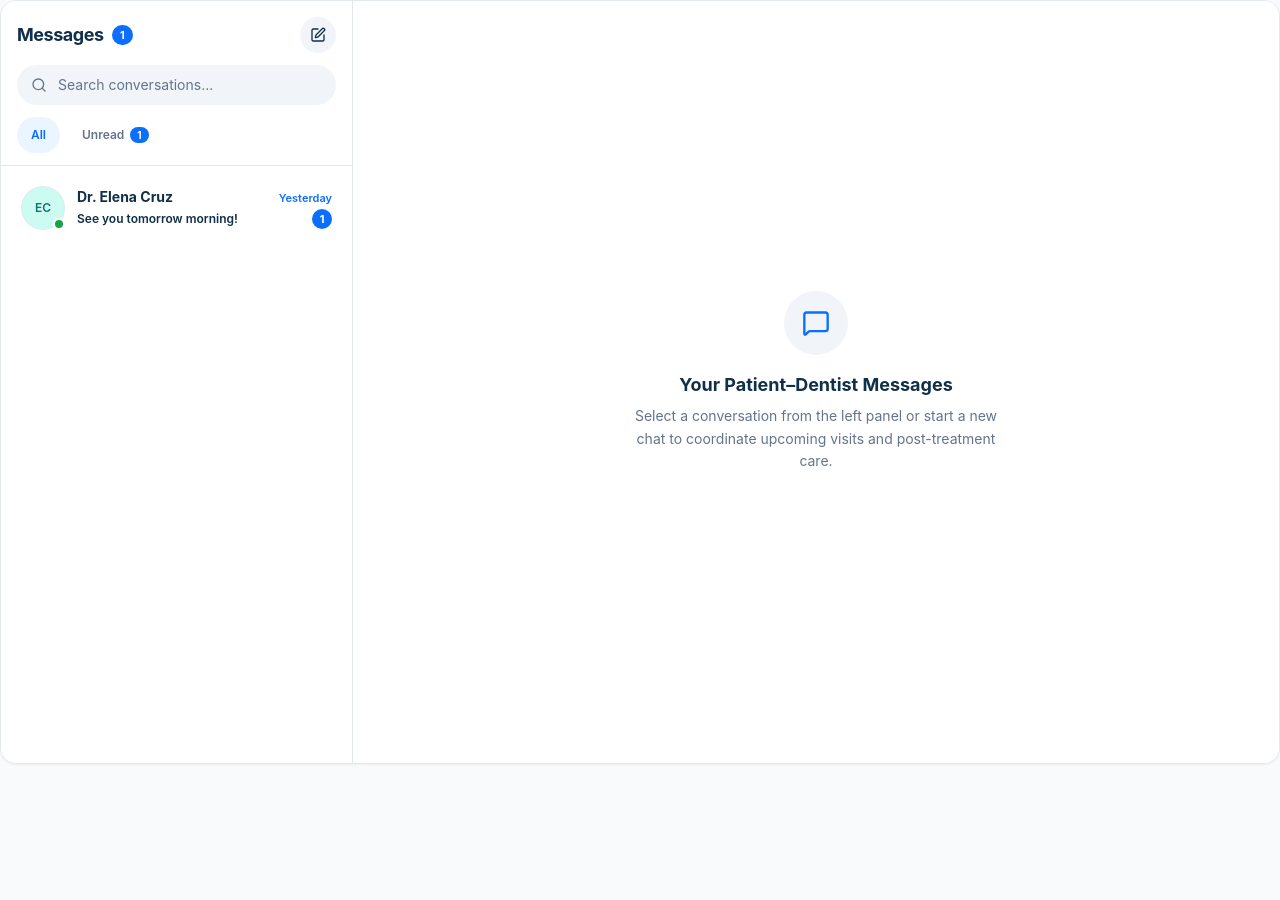
Test: Messenger-Style Patient-Dentist Chat (MessagesPage) › renders conversation sidebar, opens a thread with appointment context and read receipts, and loads older messages
Expected: the text with test id "sidebar-total-unread" reads "1", x1=120 y1=28 x2=125 y2=42
Click the button with test id "conversation-item-1". click: (176, 208)
box: x1=9 y1=174 x2=344 y2=242
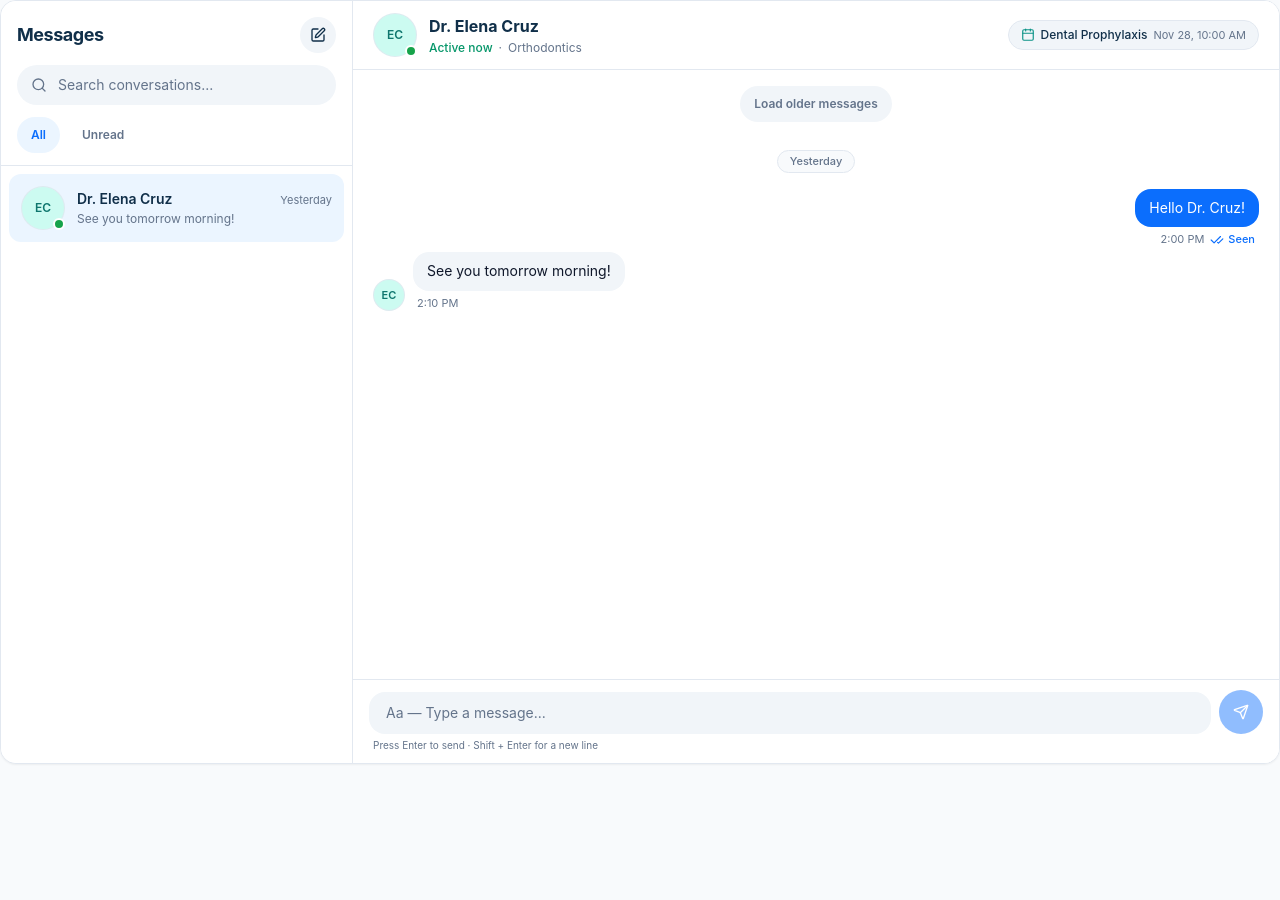
Result: the button "Hello Dr. Cruz!" is shown at x1=1135 y1=188 x2=1259 y2=227
Result: the element with test id "conversation-appointment-ref" shows "Dental Prophylaxis" at x1=1041 y1=27 x2=1148 y2=42
Result: the element with test id "message-read-receipt" reads "Seen" at x1=1228 y1=232 x2=1255 y2=246
Click the button "Load older messages". click: (816, 104)
box: x1=740 y1=86 x2=892 y2=122
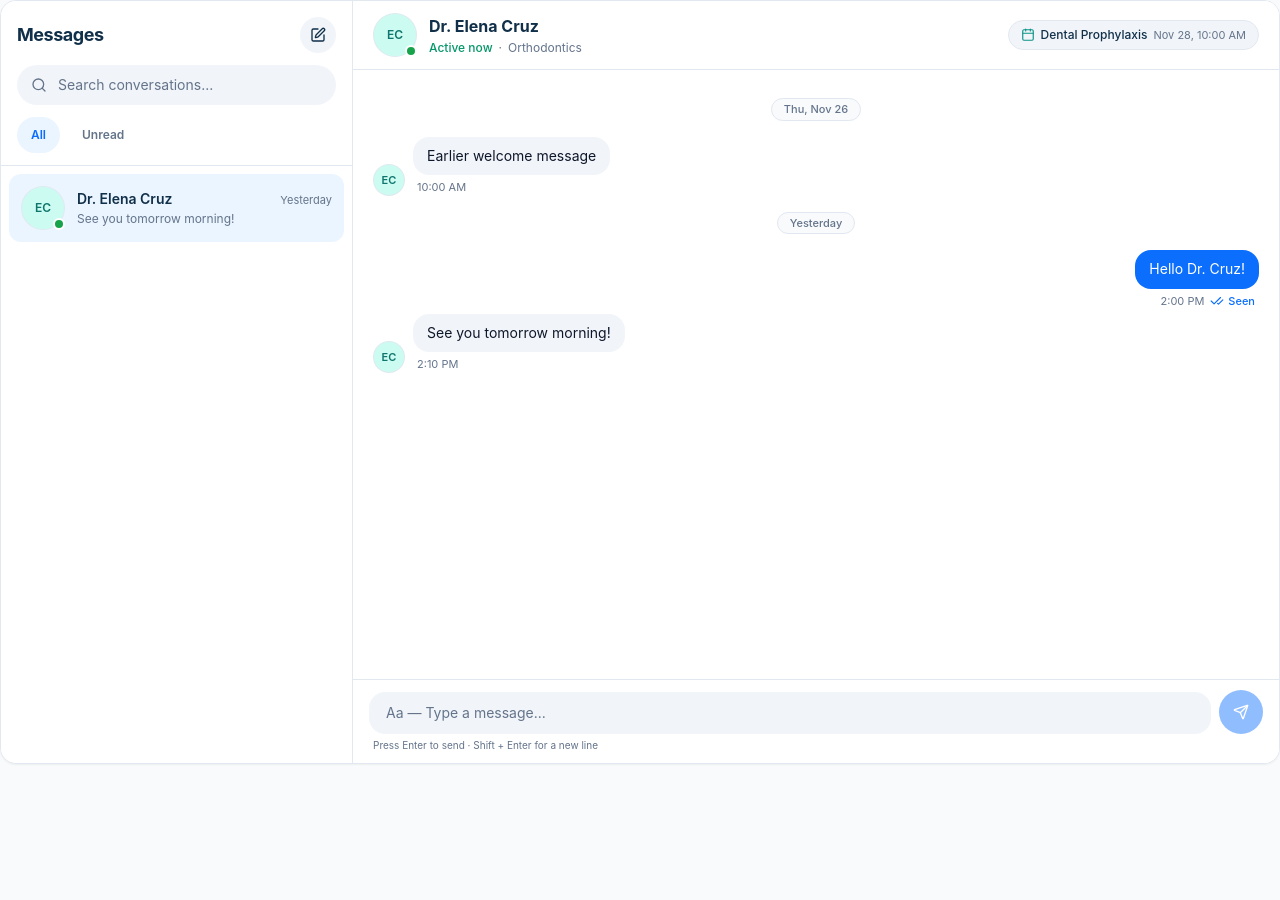
Result: the button "Earlier welcome message" is shown at x1=413 y1=136 x2=610 y2=175
